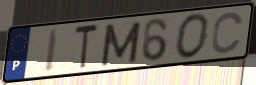6: (140, 16, 171, 64)
C: (209, 10, 245, 56)
I: (43, 26, 62, 74)
M: (99, 20, 144, 69)
O: (174, 12, 212, 61)
T: (73, 22, 100, 72)
